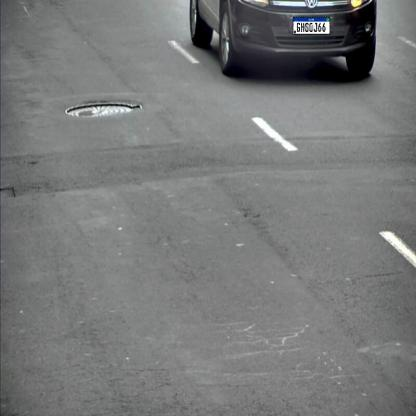PlacaM: (293, 16, 330, 34)
